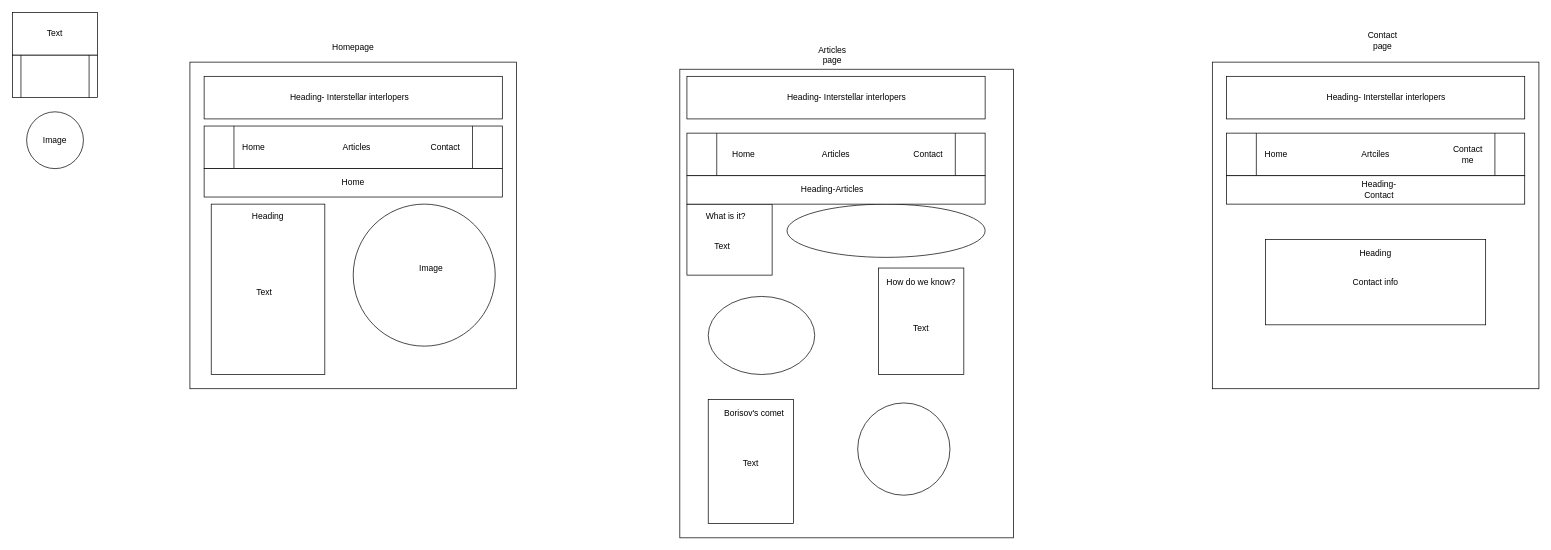
The diagram is 1551 pixels wide and 550 high, and some of its shapes have lost their labels. The box of each missing label's shape, as (x1, y1, x2, y2) in pixels:
2IBorisov image: (857, 402, 950, 495)
Navbar: (12, 54, 98, 98)
Oumuamua Image: (786, 203, 985, 257)
Second Oumuamua image: (708, 296, 815, 375)
